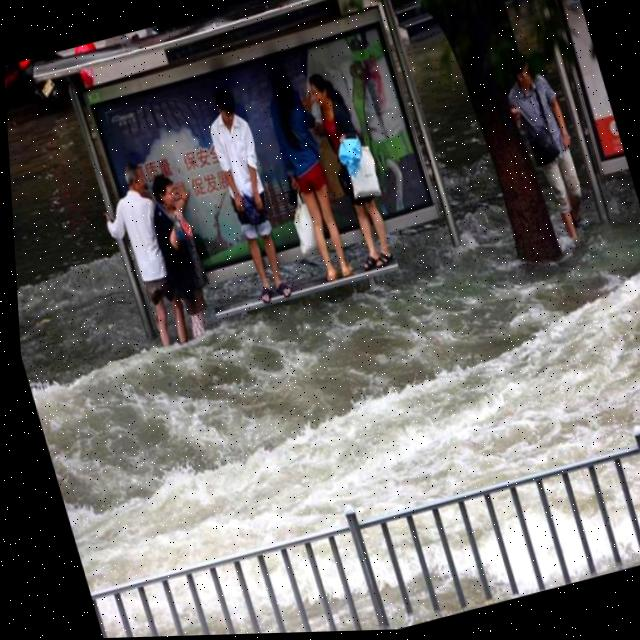civilian: (248, 60, 371, 298), (491, 34, 616, 260), (298, 49, 412, 282), (200, 85, 306, 311), (96, 152, 192, 354), (140, 166, 224, 338)
